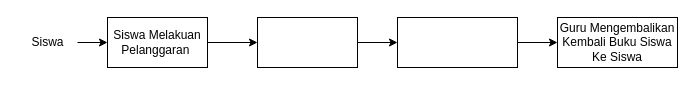
The diagram is 695 pixels wide and 85 high, and some of its shapes have lost their labels. The shapes that lost their labels are listed below. From the top down, each one's centre as x and y in pixels, then its label:
At [307,42]: "Guru Yang Melihat Meminta Buku Saku Siswa".
At [457,42]: "Guru Mengisi Buku Siswa Sesuai Pelanggaran Siswa".
